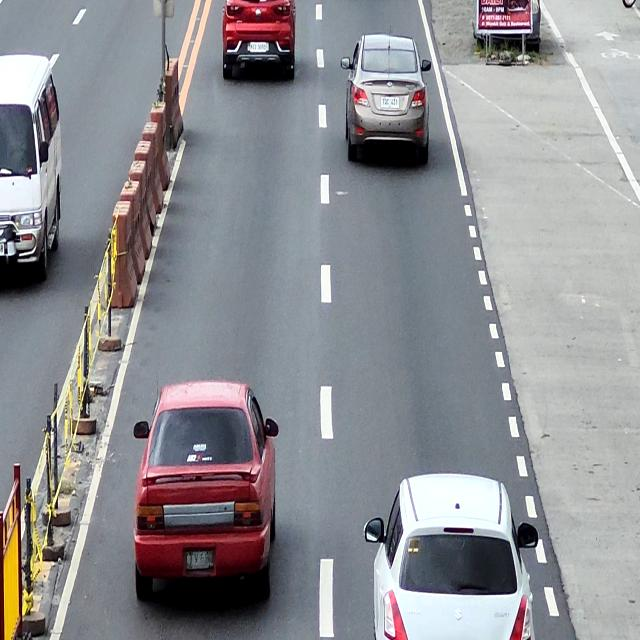Car: (132, 378, 278, 608), (365, 471, 539, 640), (0, 52, 63, 286), (341, 32, 431, 170), (220, 0, 297, 82)
License-Plate: (184, 549, 215, 569), (381, 96, 400, 110), (249, 41, 267, 53)
